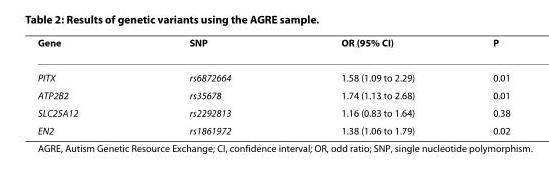table: (36, 36, 509, 135)
table column: (285, 36, 453, 135), (132, 36, 285, 135), (36, 36, 132, 135), (453, 36, 509, 135)
table column header: (36, 36, 509, 59)
table row: (36, 59, 509, 86), (36, 36, 509, 59), (36, 103, 509, 121), (36, 86, 509, 103), (36, 121, 509, 135)
